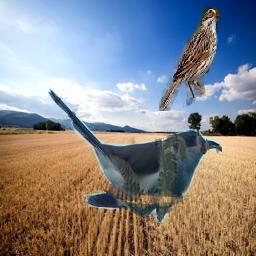Cuckoo: (44, 87, 223, 224)
Sparrow: (160, 7, 221, 111)
